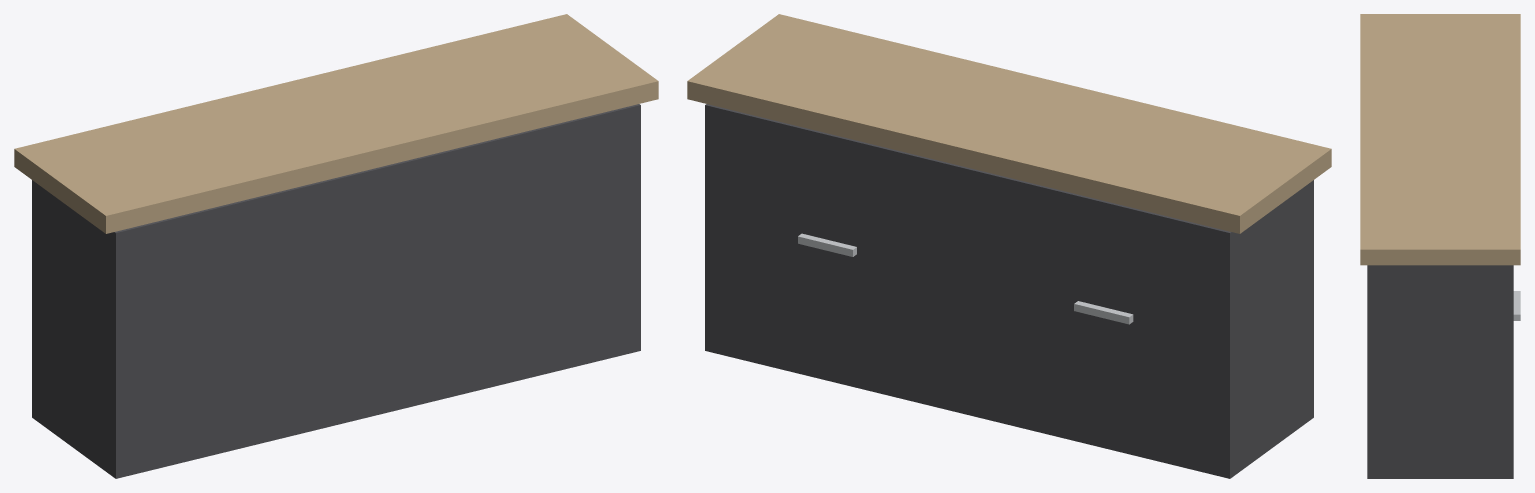
File: credenza.glb
The picture shows the model from 3 angles, left to right: view 1: azimuth 30°, elevation 25°; view 2: azimuth 150°, elevation 25°; view 3: azimuth 270°, elevation 25°; orthographic projection. The views are drawn at different scales.
Visible parts, largest first — view 1: Credenza; view 2: Credenza; view 3: Credenza.
Boxes of the visible parts, left/top/right/bottom form: Credenza: left=14, top=14, right=658, bottom=478; Credenza: left=687, top=14, right=1331, bottom=478; Credenza: left=1360, top=14, right=1520, bottom=478.
Size of the model in its own units: 1.6 by 0.745 by 0.46.
